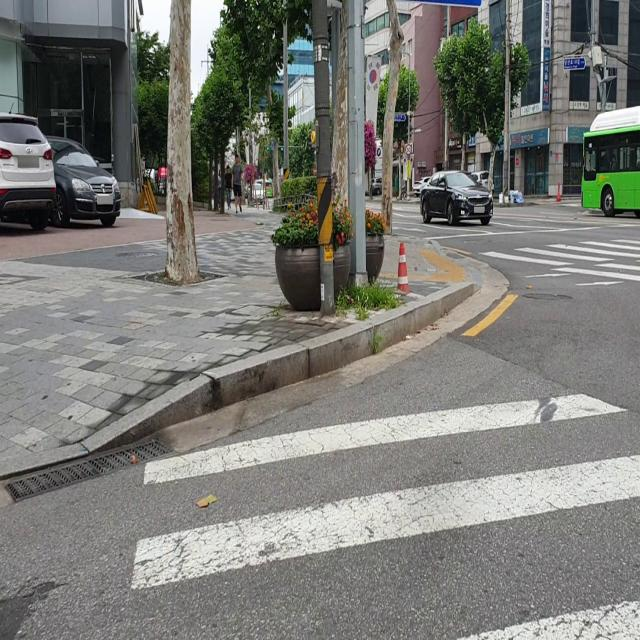횡단보도: (128, 388, 640, 639), (476, 238, 640, 286)
